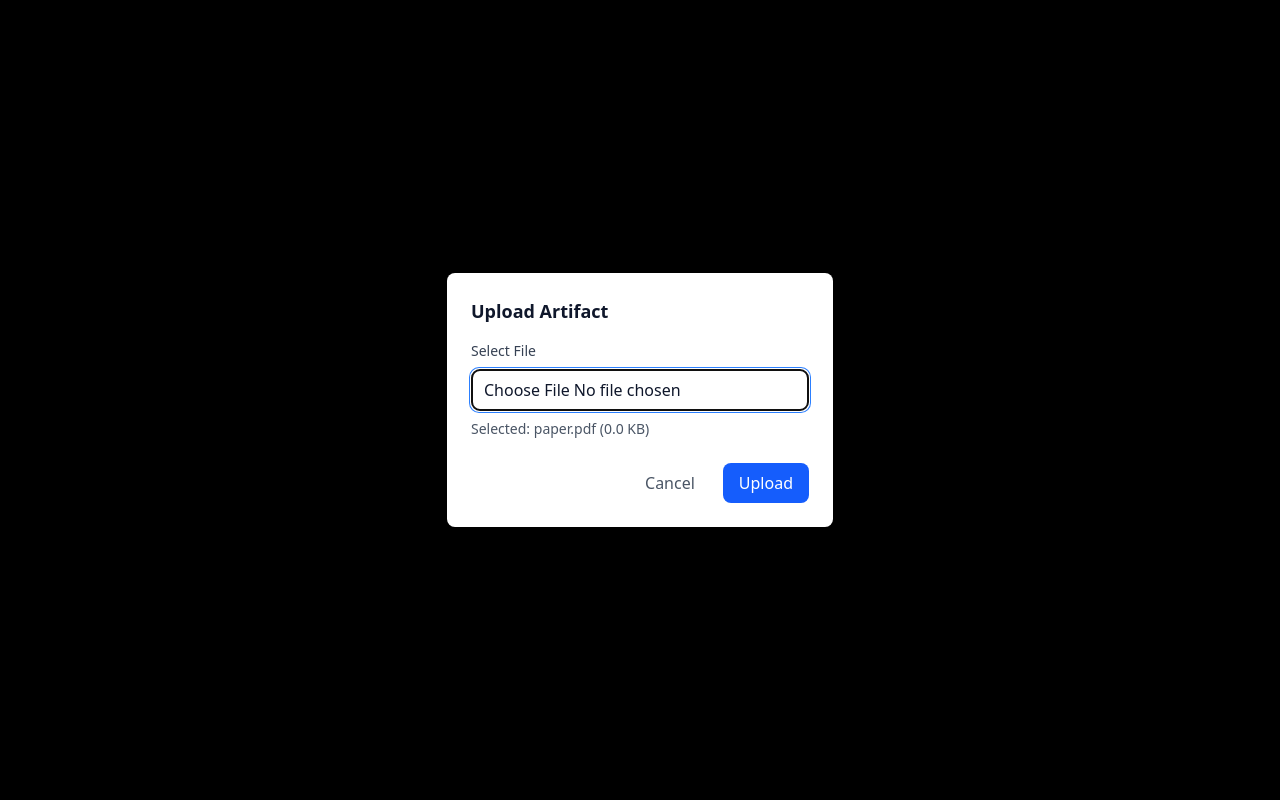
Test: AddArtifactDialog › shows the failure reason when the upload job fails
Earlier steps of the test are not shown.
Click the button "Upload": (766, 483) [723,463,809,503]
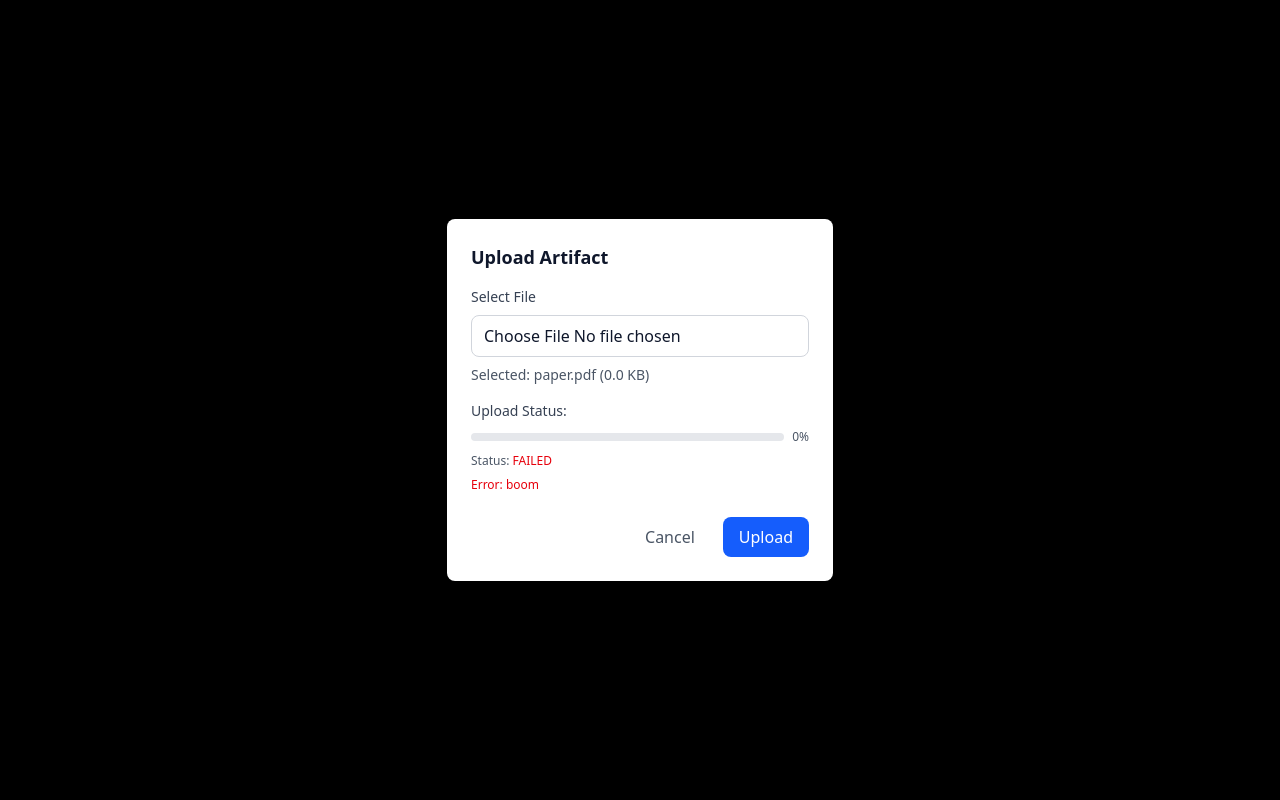
Now the text "Error: boom" is shown, box [471,476,539,493]
